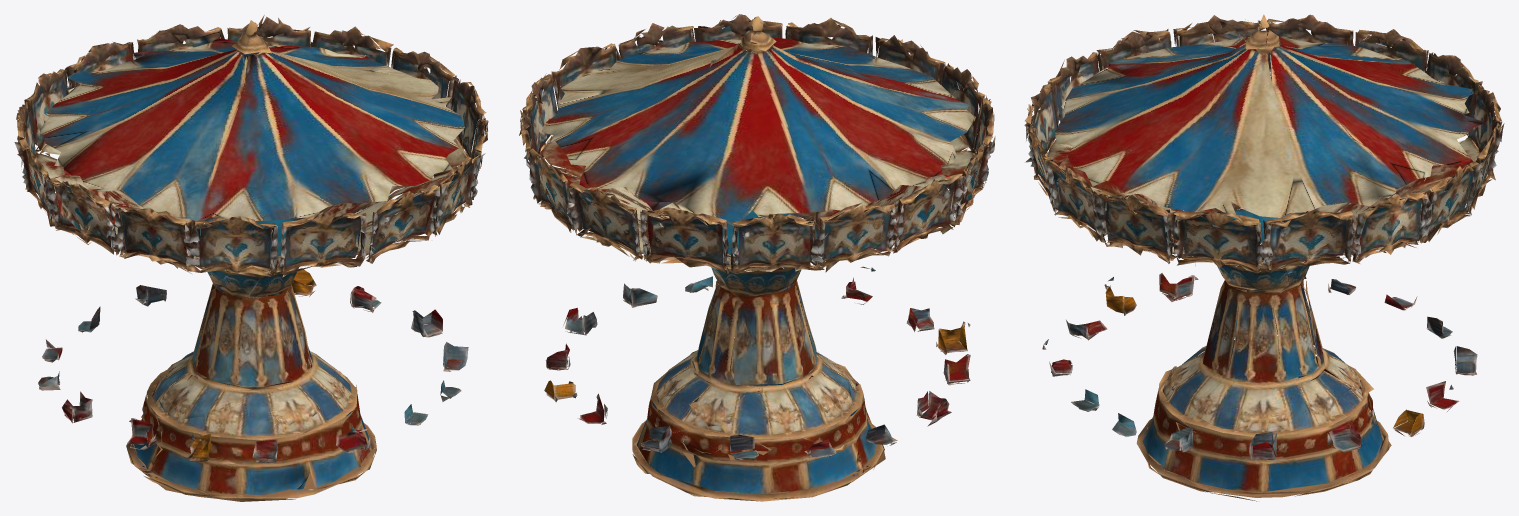
The model's file is jahrmarkt_karussell.glb.
3 views of the same model, side by side, from view 1: azimuth 30°, elevation 25°; view 2: azimuth 150°, elevation 25°; view 3: azimuth 270°, elevation 25° (orthographic).
Visible parts, largest first — view 1: Prop; view 2: Prop; view 3: Prop.
Part boxes in pixels (box(x1,y1,x2,y2)): Prop: box(14, 15, 488, 501); Prop: box(519, 14, 995, 501); Prop: box(1024, 14, 1504, 501).
Bounding box in the file's own units: 1.01 × 1 × 1.01.
1 material, 1 textured.
